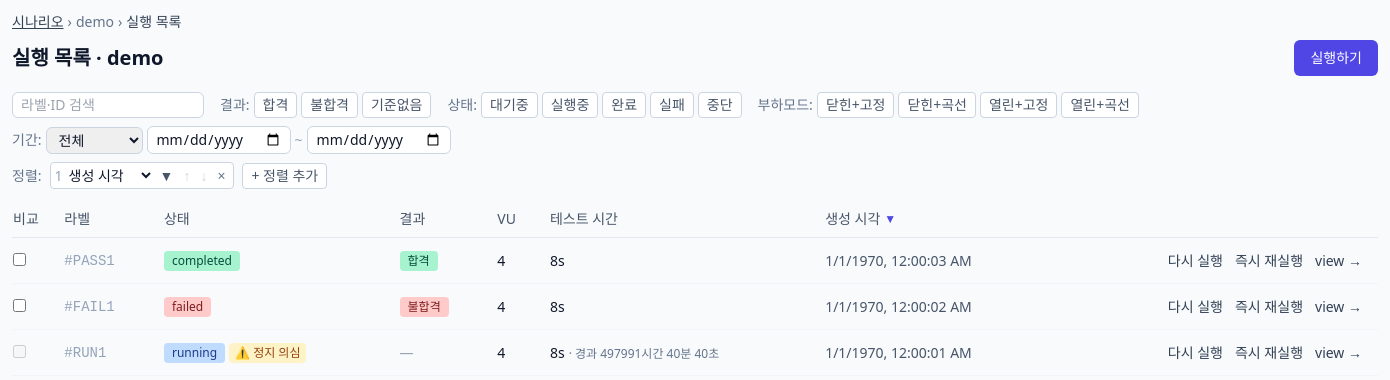
it: ScenarioRunsPage — filter/sort (run-list-filter-sort) › filter writes URL query params (R13)
The width and height of the screenshot is (1390, 380).
Click the button "실행중". click: (570, 105)
box: [542,92,598,118]
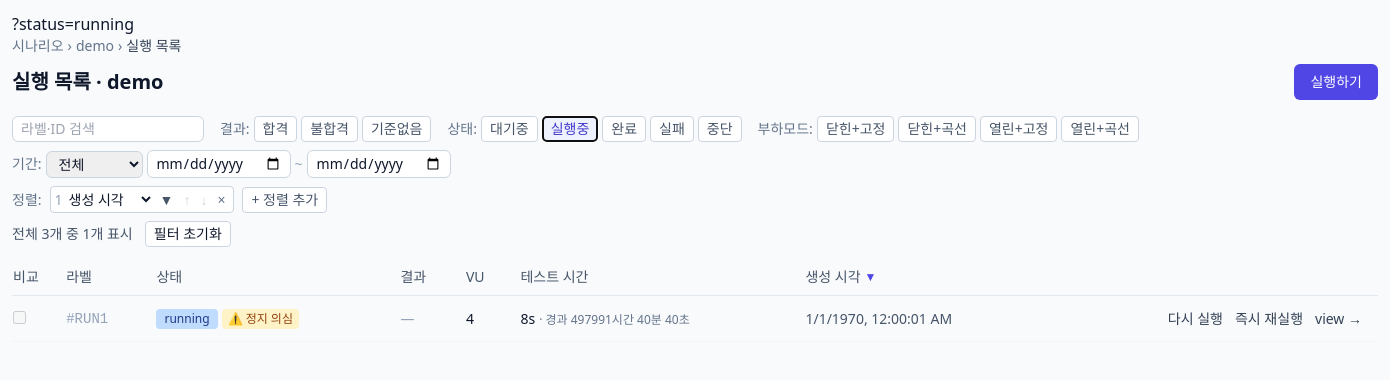
Expected: the text with test id "runs-location" shows "status=running", [12,13,134,35]
